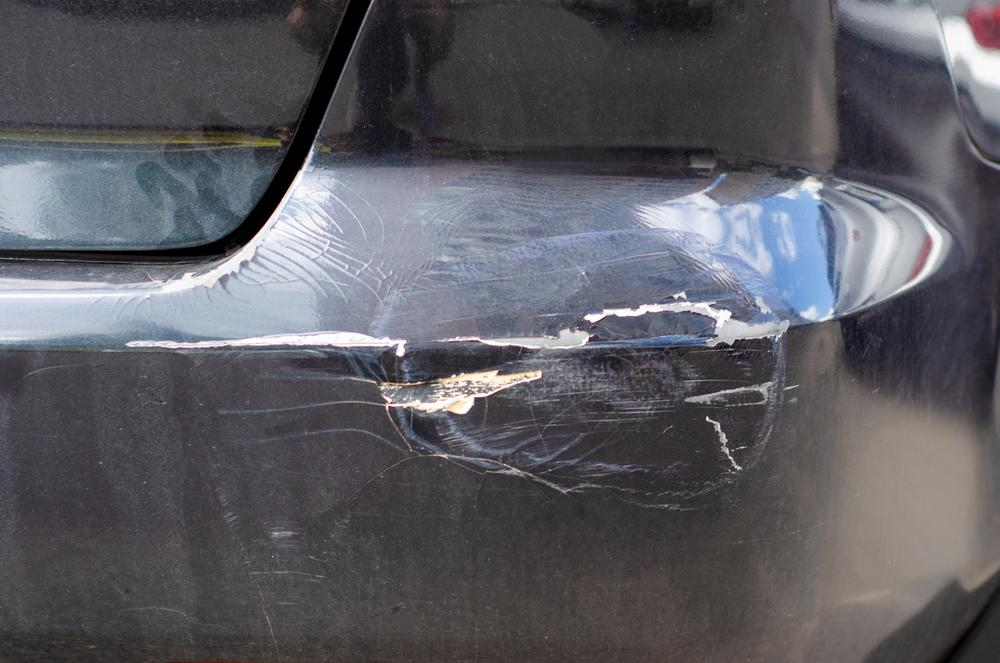dent: (685, 87, 947, 321)
scratch: (364, 223, 799, 513)
